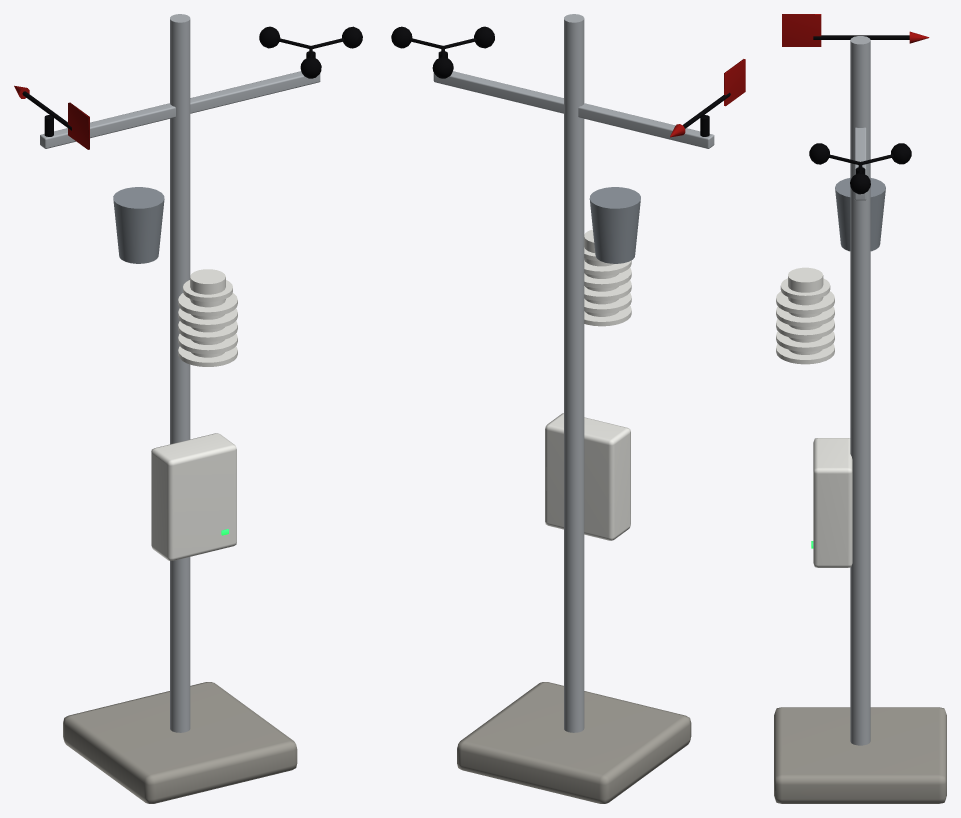
The model's file is weather_station.glb.
3 views of the same model, side by side, from view 1: azimuth 30°, elevation 25°; view 2: azimuth 150°, elevation 25°; view 3: azimuth 270°, elevation 25° (orthographic).
Parts seen in each view (by area): view 1: Mast, Cups, Vane; view 2: Mast, Cups, Vane; view 3: Mast, Vane, Cups.
Part boxes in pixels (box(x1,y1,x2,y2)): Mast: box(40, 14, 320, 803); Cups: box(259, 26, 362, 78); Vane: box(14, 85, 89, 149); Mast: box(433, 14, 714, 803); Cups: box(391, 26, 494, 78); Vane: box(670, 59, 745, 137); Mast: box(774, 36, 946, 803); Vane: box(782, 14, 929, 46); Cups: box(809, 143, 911, 194).
Size of the model in its own units: 0.9265 by 2.05 by 0.44.
